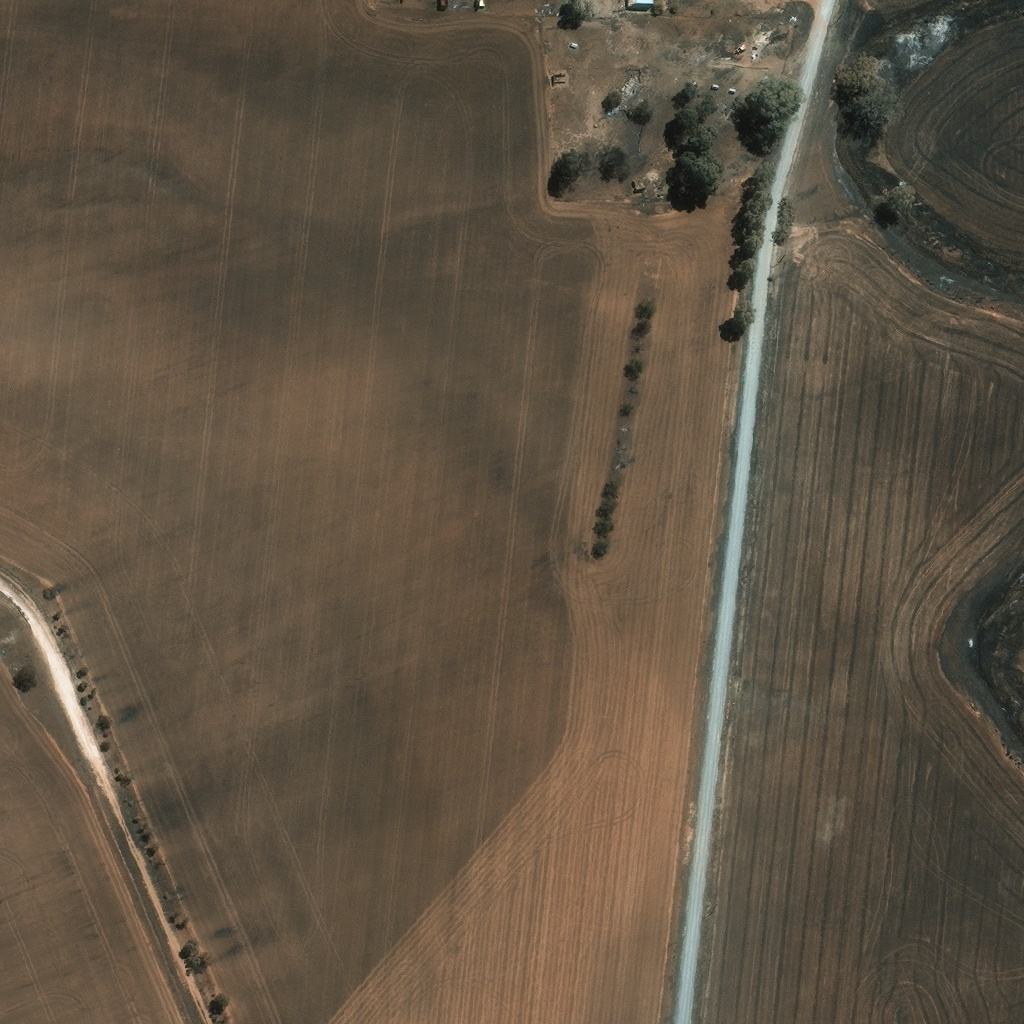0 no-damage: (571, 41, 578, 48)
1 minor-damage: (718, 80, 725, 87), (725, 83, 732, 89)
3 destroyed: (624, 74, 638, 87)
4 un-classified: (628, 0, 653, 6)
